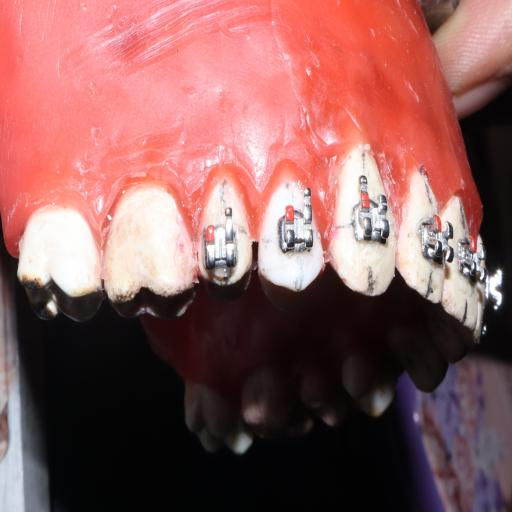correct_brace: (254, 158, 328, 302)
incorrect_brace: (275, 184, 316, 254)
